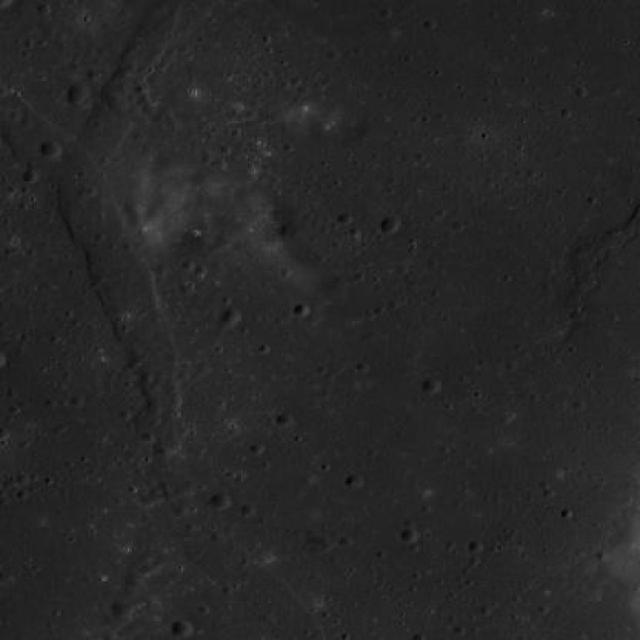crater: (111, 602, 134, 621), (66, 85, 88, 104), (171, 619, 192, 638), (210, 492, 232, 510), (379, 216, 399, 233), (39, 142, 59, 158)
